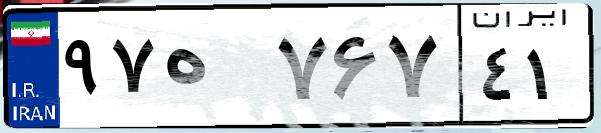1: (525, 38, 570, 115)
4: (475, 38, 525, 113)
6: (330, 28, 385, 110)
7: (270, 28, 330, 110), (385, 28, 445, 110), (110, 28, 158, 98)
9: (57, 26, 110, 100)
ه: (158, 20, 270, 120)
